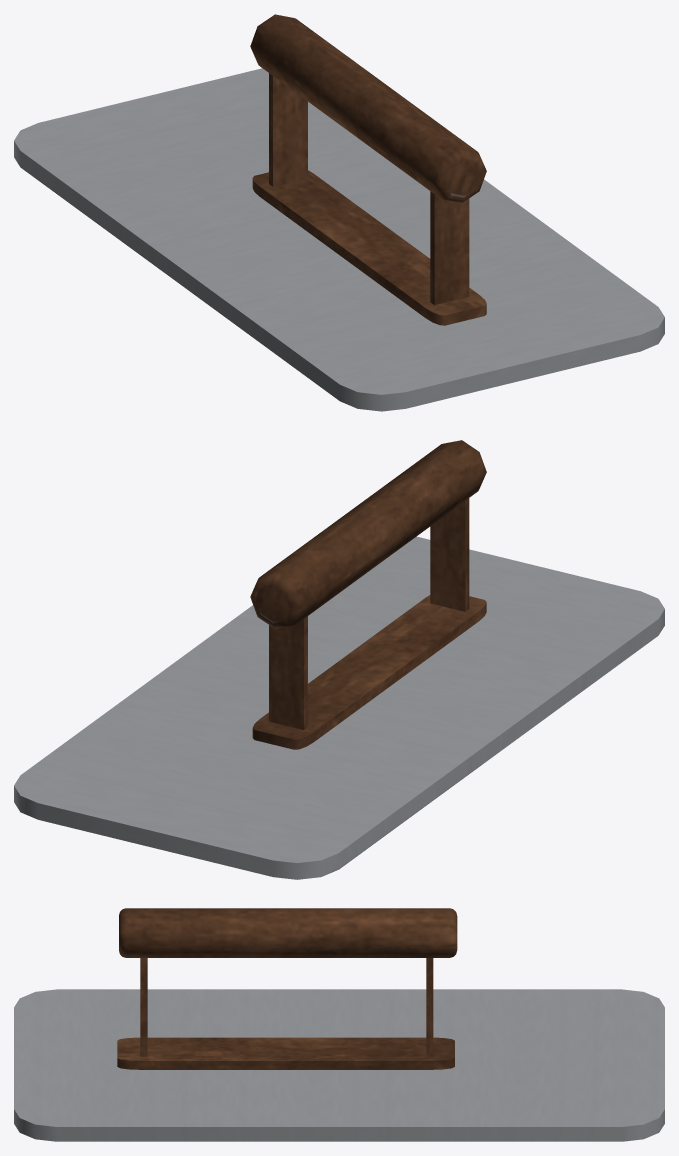
Rendered from trowel_2.fbx.
3 views of the same model, one above another, from view 1: azimuth 30°, elevation 25°; view 2: azimuth 150°, elevation 25°; view 3: azimuth 270°, elevation 25° (orthographic). The views are drawn at different scales.
Visible parts, largest first — view 1: Plane; view 2: Plane; view 3: Plane.
Boxes of the visible parts, bbox=[...] form: Plane: bbox=[14, 14, 664, 411]; Plane: bbox=[14, 440, 664, 879]; Plane: bbox=[14, 908, 664, 1141].
Size of the model in its own units: 0.1 by 0.0555 by 0.2.
